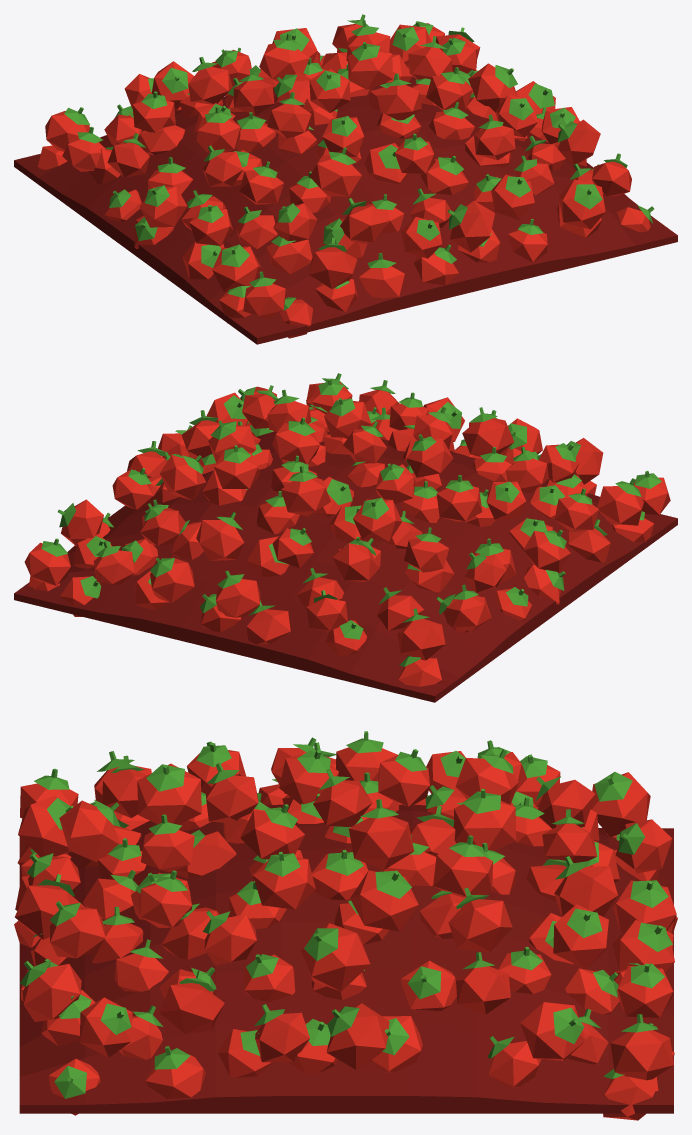
The model's file is Pile_Tomato.fbx.
The picture shows the model from 3 angles, top to bottom: view 1: azimuth 30°, elevation 25°; view 2: azimuth 150°, elevation 25°; view 3: azimuth 270°, elevation 25°; orthographic projection. The views are drawn at different scales.
Visible parts, largest first — view 1: Pile_Tomato; view 2: Pile_Tomato; view 3: Pile_Tomato.
Part boxes in pixels (<box>): Pile_Tomato: <box>14,14,677,344</box>; Pile_Tomato: <box>14,373,677,702</box>; Pile_Tomato: <box>14,731,677,1120</box>.
Bounding box in the file's own units: 1.02 × 0.3602 × 1.01.
